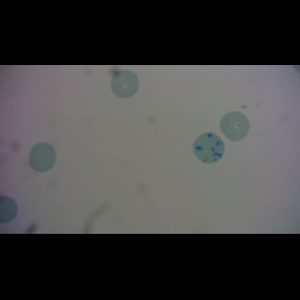aggregate reticulocyte: (192, 132, 226, 164)
erythrocyte: (219, 111, 252, 143), (27, 142, 58, 174), (110, 69, 140, 100)
